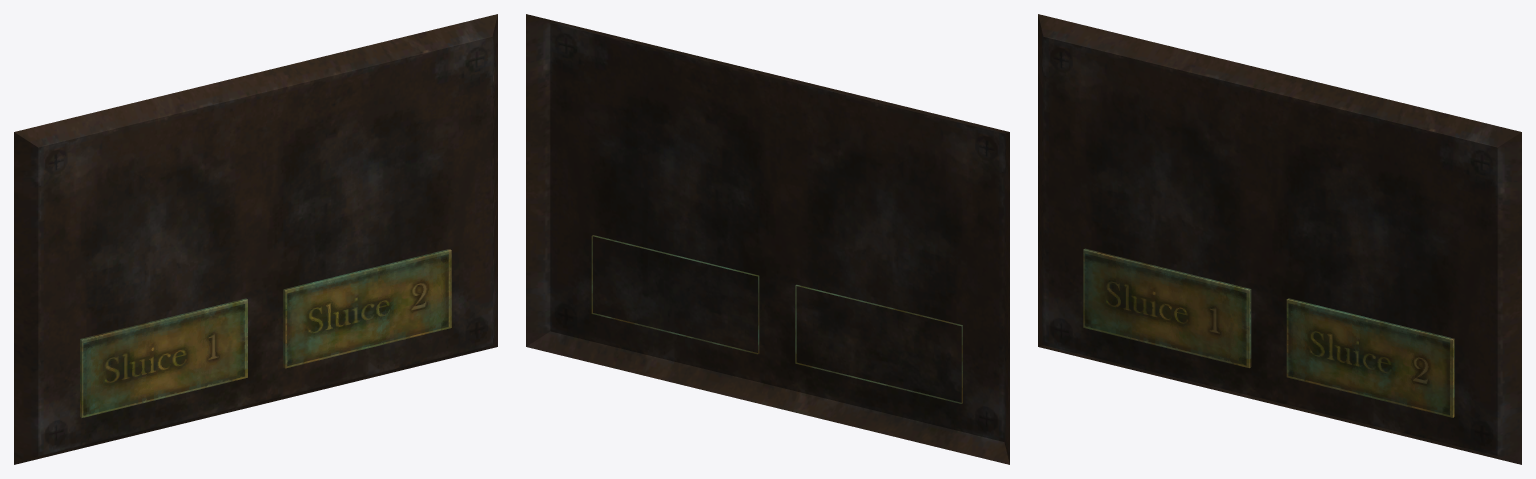
The model's file is sluice_light_board.DAE.
The picture shows the model from 3 angles, left to right: view 1: azimuth 30°, elevation 25°; view 2: azimuth 150°, elevation 25°; view 3: azimuth 330°, elevation 25°; orthographic projection.
Parts seen in each view (by area): view 1: sluice_light_board; view 2: sluice_light_board; view 3: sluice_light_board.
Boxes of the visible parts, x1,y1,x2,y2 form: sluice_light_board: (14, 14, 497, 464); sluice_light_board: (526, 14, 1009, 464); sluice_light_board: (1038, 14, 1521, 464).
Bounding box in the file's own units: 1.2 × 0.7911 × 0.0486.
